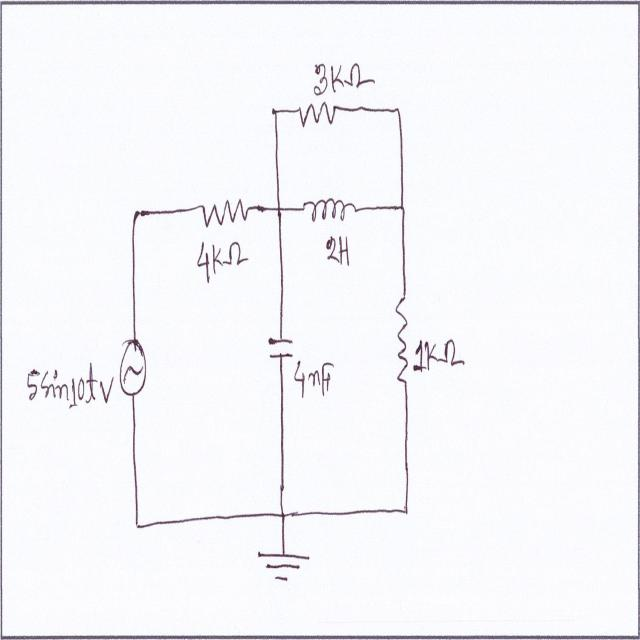ac_current: (119, 314, 148, 404)
capacitor: (265, 331, 296, 363)
ground: (256, 545, 310, 587)
inductor: (302, 193, 356, 227)
resistor: (200, 193, 249, 234), (394, 292, 410, 388), (298, 99, 338, 137)
